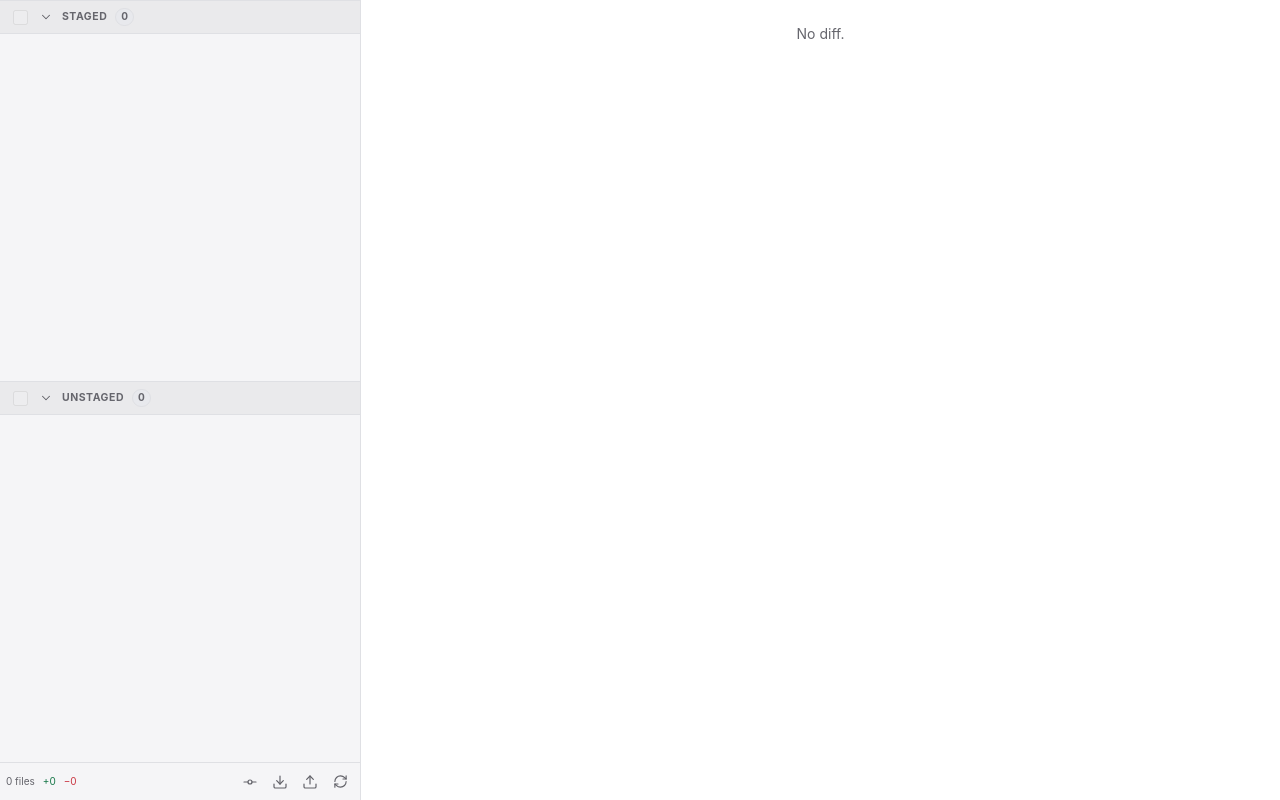
DiffView diff lifecycle › renders icon-only repository actions in the left pane footer and opens Commit as a dialog
Expected: the text "0 files" is shown, [6,774,35,789]
Expected: the text "+0" is shown, [43,774,56,789]
Click the button named "Commit" at (250, 782), box [236,768,264,796]
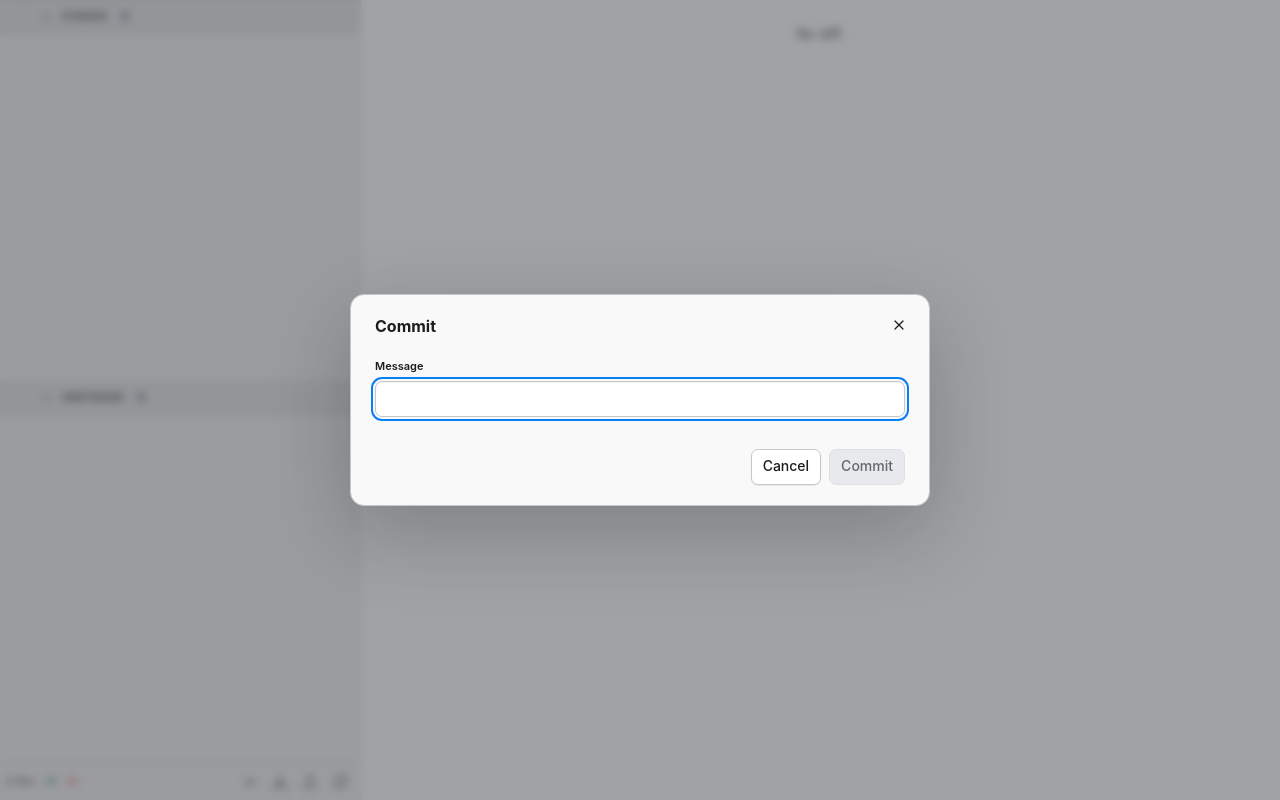
Expected: the element named "Diff list width" is shown, [358,0,363,799]
Click the button "Cancel" at (786, 467), box [751,449,821,485]
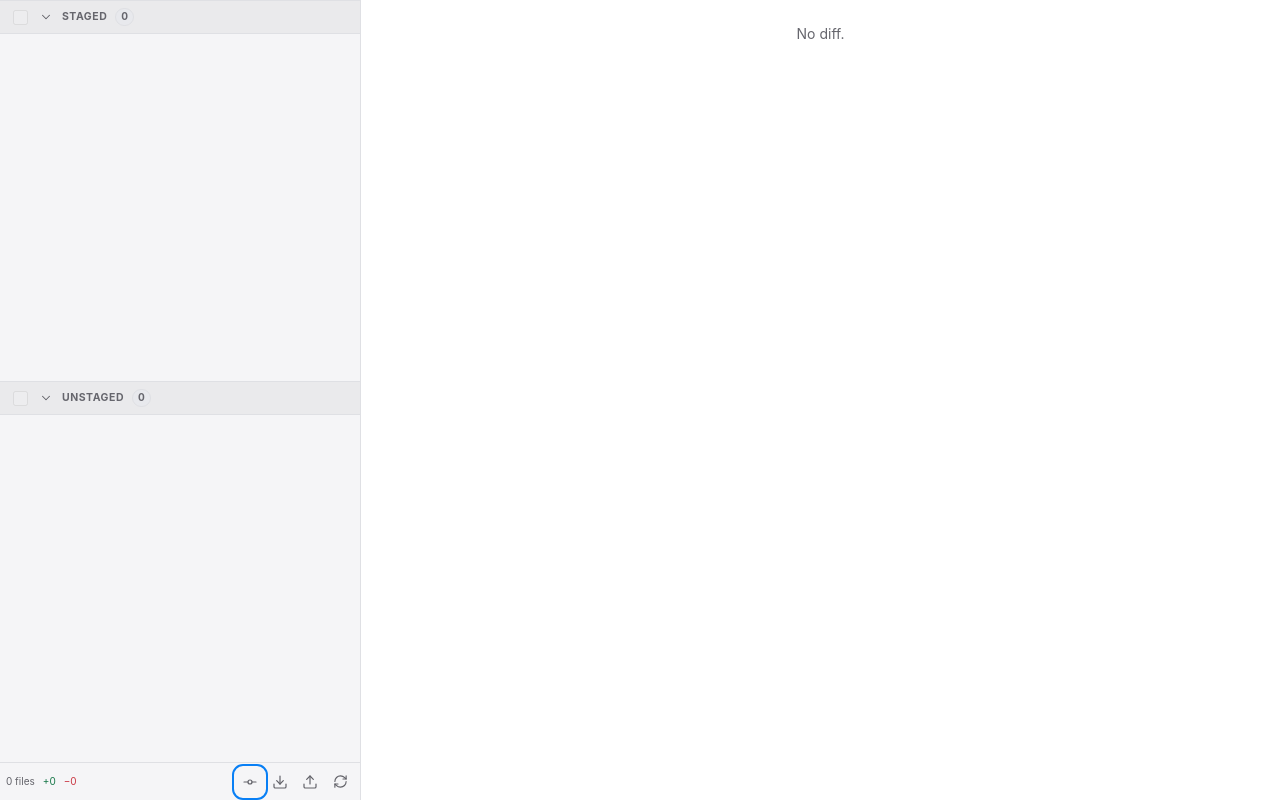
Now the heading "Commit" is gone
Now the button named "Commit" is collapsed, box [236,768,264,796]
